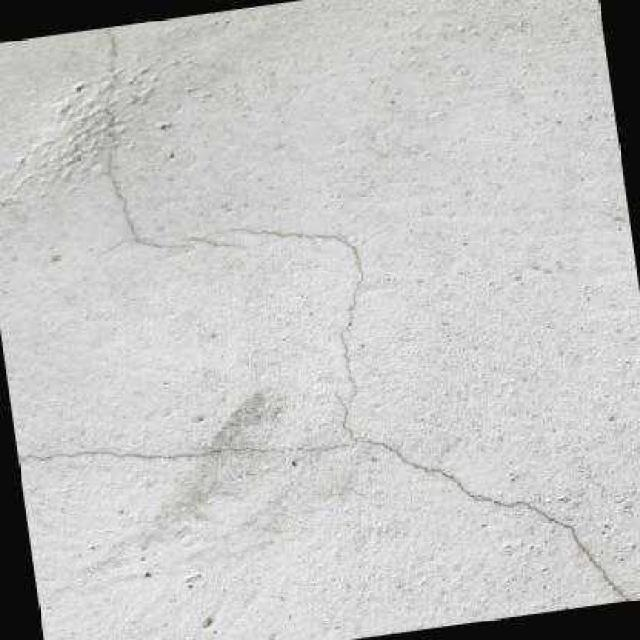D00: (16, 390, 632, 599), (222, 227, 368, 395), (100, 27, 189, 249), (189, 237, 243, 249)
